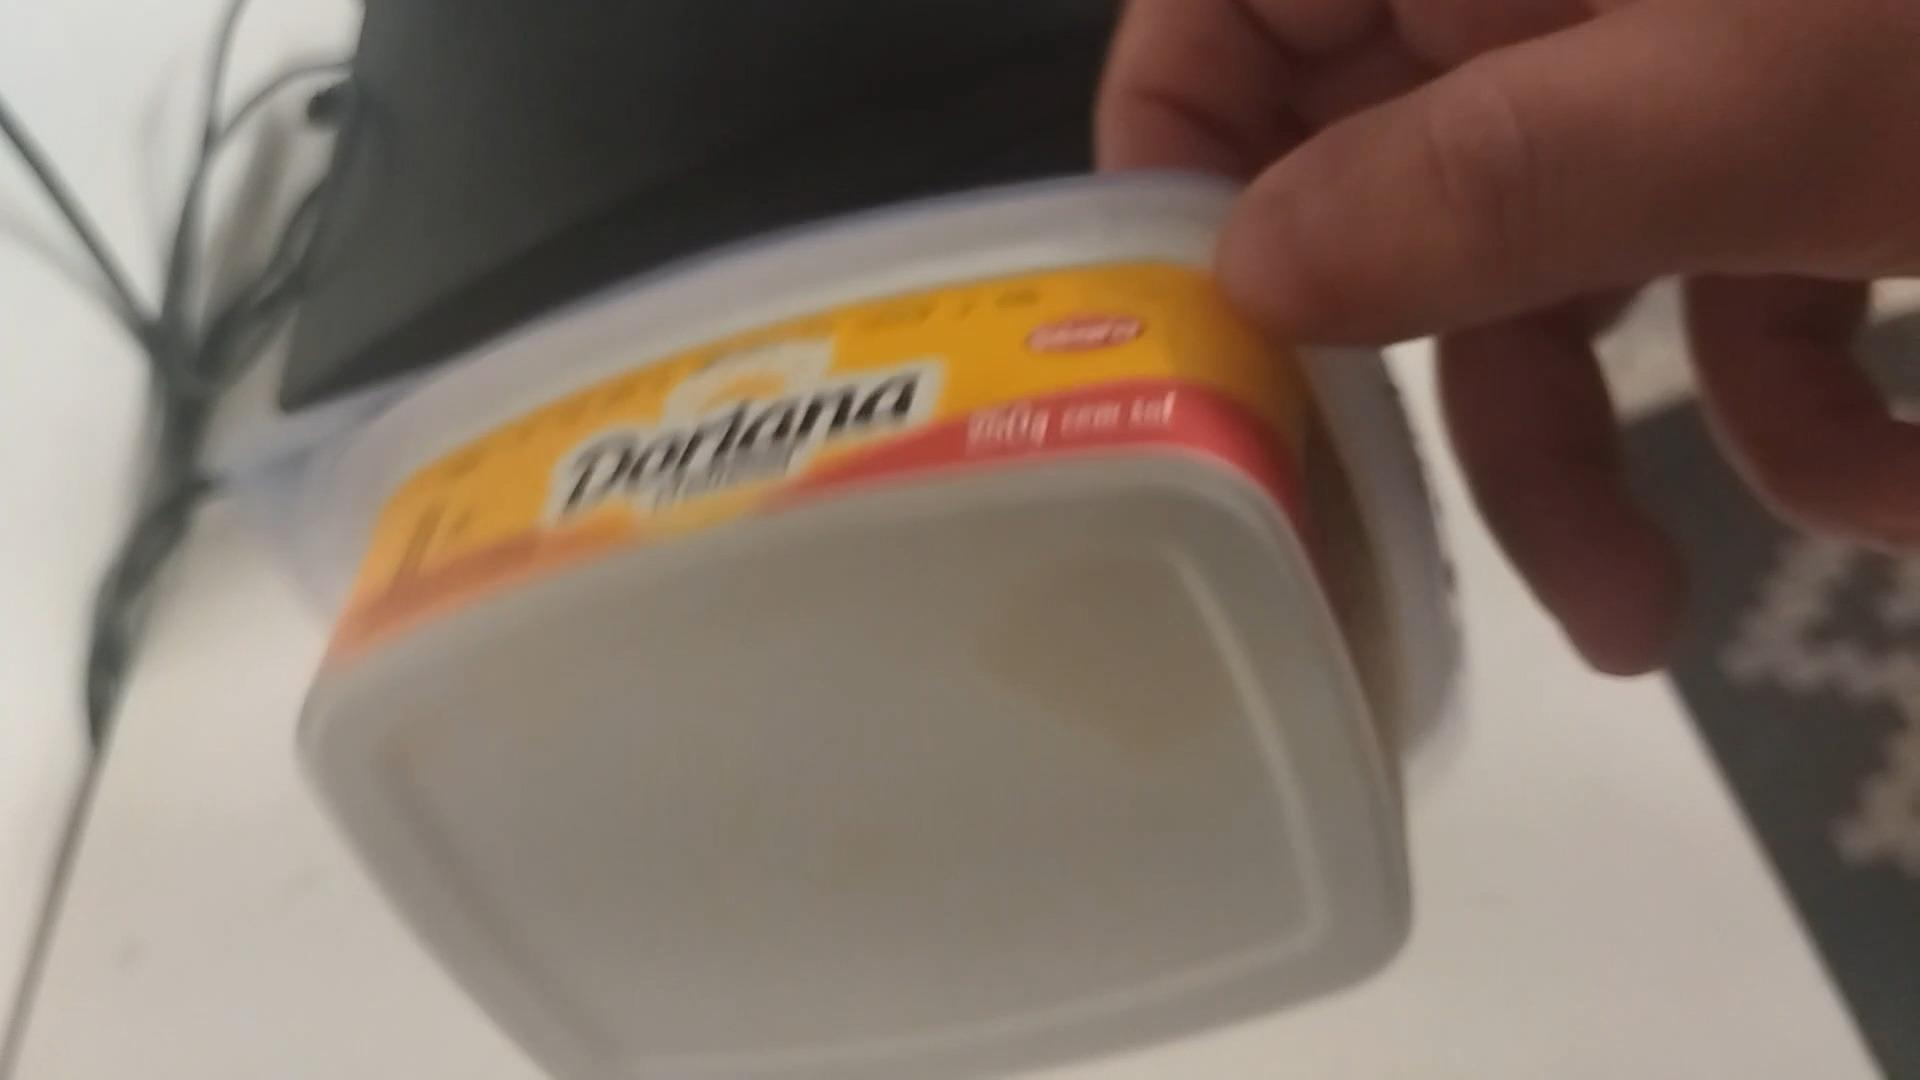butter: (277, 170, 1437, 1080)
